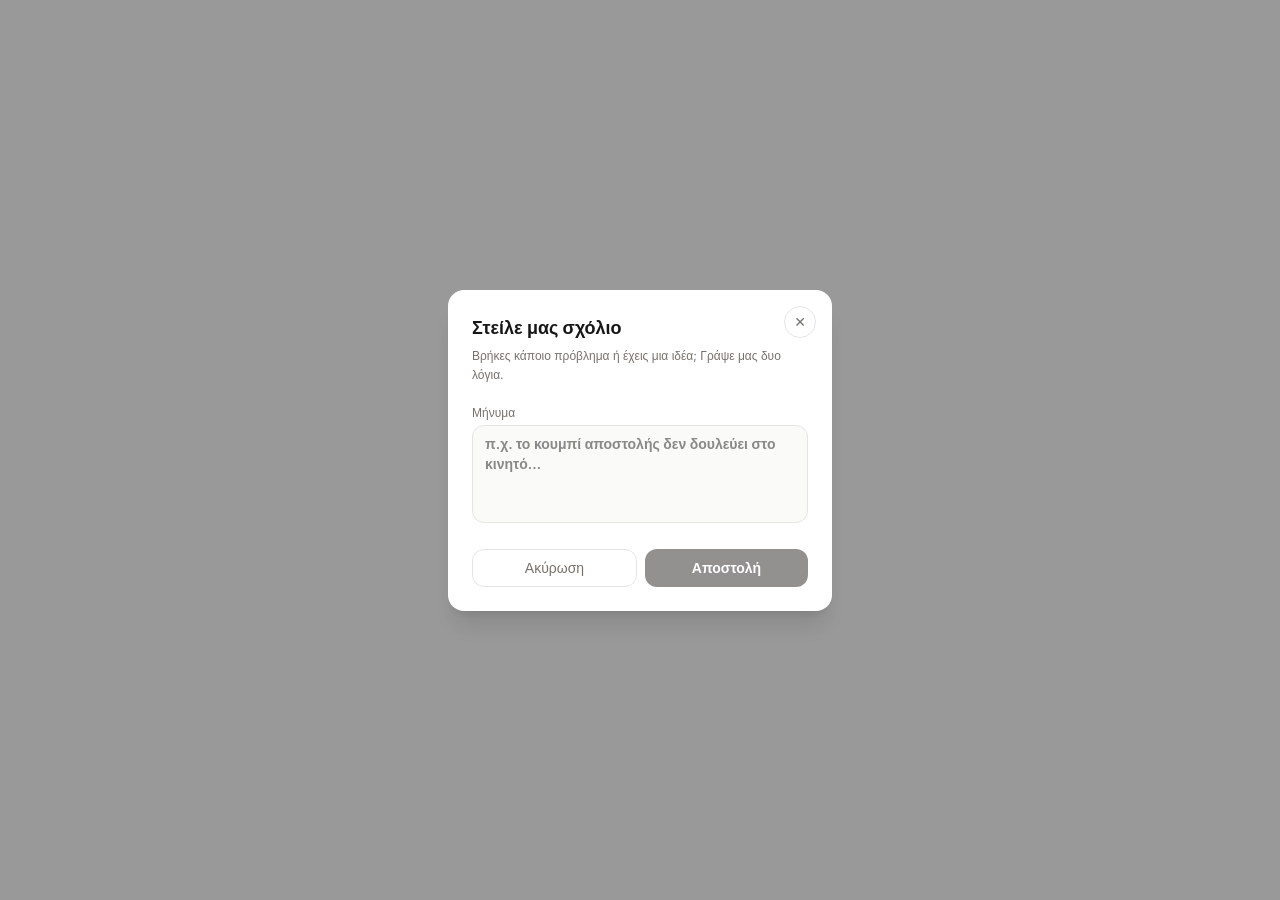
Test case: FeedbackModal — submission › shows an error message when the POST fails
This screenshot has width=1280, height=900.
Type "σφάλμα" into the text box with test id "feedback-modal-message".
click(640, 474); type("σφάλμα")  # box [472,424,808,522]
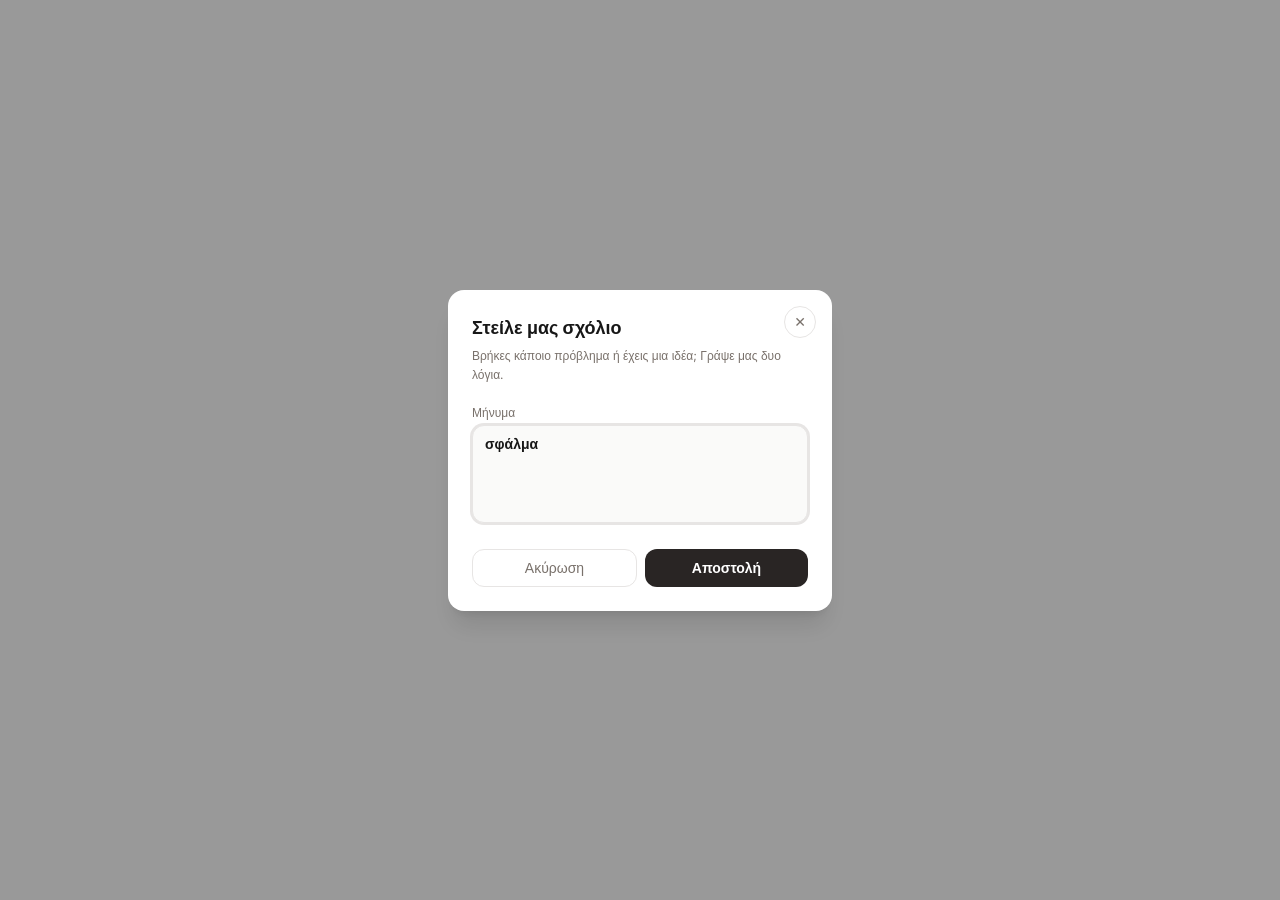
Click the button with test id "feedback-modal-submit".
click(726, 568)  # box [645,548,808,586]
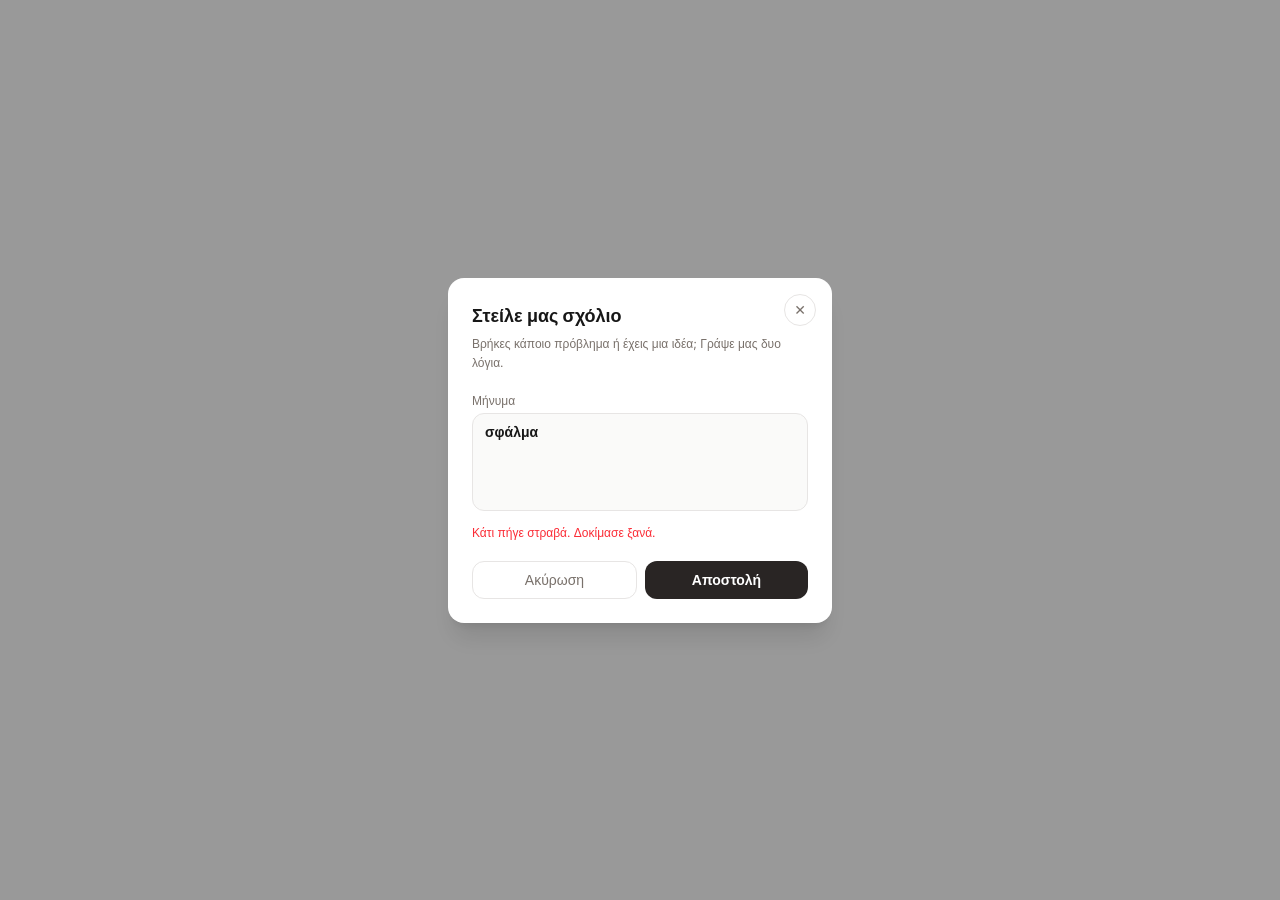
Now the text "Κάτι πήγε στραβά. Δοκίμασε ξανά." is shown, box [472,524,656,540]
